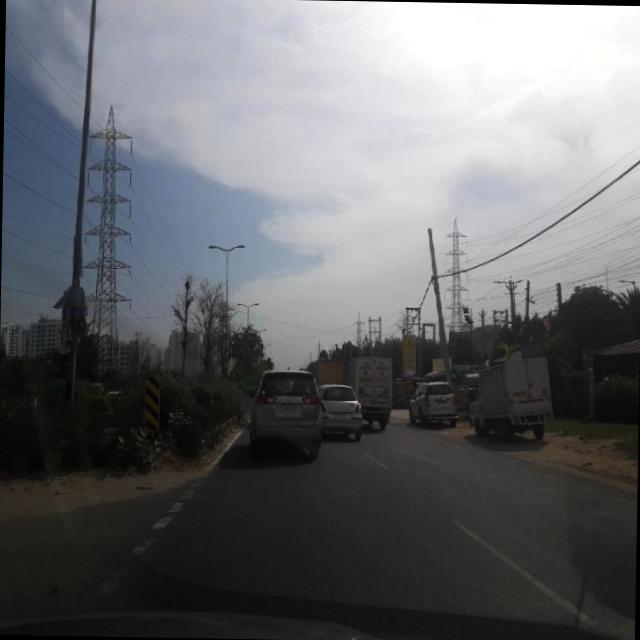crack: (144, 457, 608, 630)
